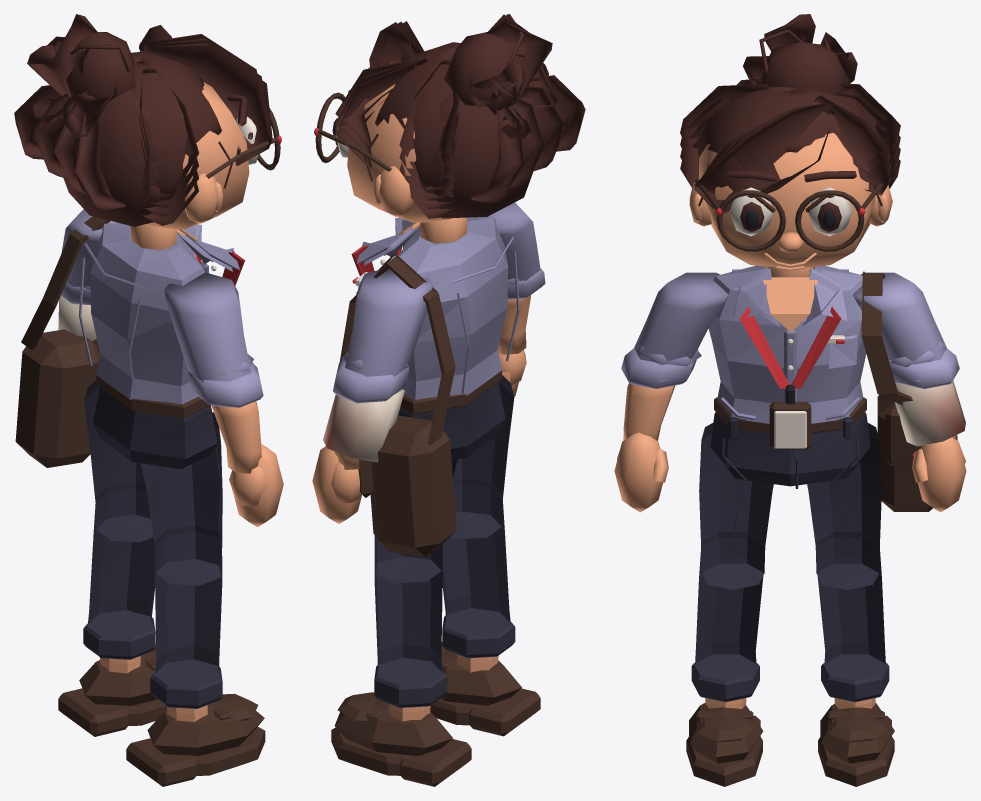
3 views of the same model, side by side, from view 1: azimuth 30°, elevation 25°; view 2: azimuth 150°, elevation 25°; view 3: azimuth 270°, elevation 25° (orthographic). The views are drawn at different scales.
Visible parts, largest first — view 1: head_pal_hairChestnut, torso_pal_lavender, torso_pal_leather, shinR_pal_navy, shinL_pal_navy, footR_pal_leather, legR_pal_navy, armR_pal_lavender, head_pal_skinWarm, hip_pal_navy, footL_pal_leather, legL_pal_navy (+9 smaller); view 2: head_pal_hairChestnut, torso_pal_lavender, torso_pal_leather, shinL_pal_navy, shinR_pal_navy, footL_pal_leather, armL_pal_lavender, head_pal_skinWarm, footR_pal_leather, legR_pal_navy, foreArmL_pal_picketWhite, hip_pal_navy (+11 smaller); view 3: head_pal_hairChestnut, torso_pal_lavender, head_pal_skinWarm, shinR_pal_navy, shinL_pal_navy, legL_pal_navy, legR_pal_navy, hip_pal_navy, torso_pal_leather, armR_pal_lavender, footL_pal_leather, footR_pal_leather (+13 smaller).
Part boxes in pixels (x1,y1,x2,y2): head_pal_hairChestnut: (14,14,272,226); torso_pal_lavender: (79,223,239,404); torso_pal_leather: (15,216,110,467); shinR_pal_navy: (150,525,222,708); shinL_pal_navy: (83,482,155,659); footR_pal_leather: (126,693,265,786); legR_pal_navy: (140,412,222,585); armR_pal_lavender: (164,272,253,381); head_pal_skinWarm: (130,82,249,249); hip_pal_navy: (93,387,217,469); footL_pal_leather: (58,644,166,736); legL_pal_navy: (84,380,153,542); head_pal_hairChestnut: (333,14,585,218); torso_pal_lavender: (356,216,519,399); torso_pal_leather: (339,253,456,556); shinL_pal_navy: (374,538,447,707); shinR_pal_navy: (442,478,515,658); footL_pal_leather: (331,692,471,786); armL_pal_lavender: (341,269,432,377); head_pal_skinWarm: (347,84,467,243); footR_pal_leather: (430,642,540,736); legR_pal_navy: (451,375,514,539); foreArmL_pal_picketWhite: (323,389,404,462); hip_pal_navy: (398,382,505,459); head_pal_hairChestnut: (680,14,900,232); torso_pal_lavender: (708,265,866,423); head_pal_skinWarm: (689,133,892,277); shinR_pal_navy: (691,532,765,702); shinL_pal_navy: (815,532,889,702); legL_pal_navy: (807,423,881,589); legR_pal_navy: (699,423,773,589); hip_pal_navy: (710,412,870,488); torso_pal_leather: (769,271,932,511); armR_pal_lavender: (634,272,728,366); footL_pal_leather: (818,702,894,786); footR_pal_leather: (686,703,763,786).
Bounding box in the file's own units: 0.5403 × 1.83 × 0.8225.
